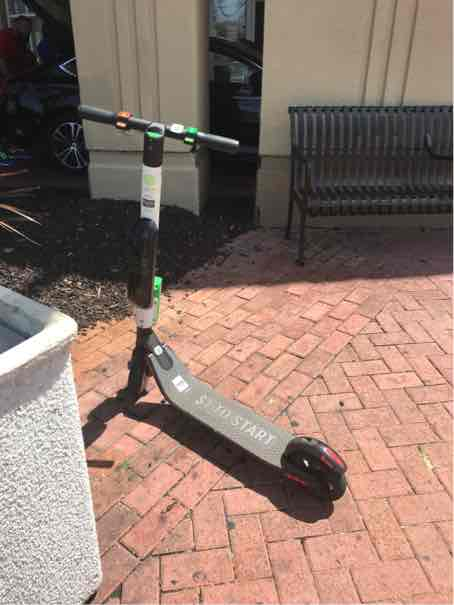scooter: (74, 104, 344, 510)
